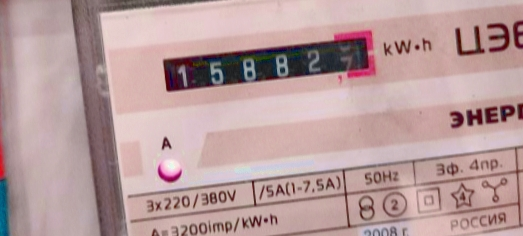1: (173, 62, 190, 91)
2: (303, 47, 322, 77)
5: (205, 59, 226, 88)
7: (336, 54, 354, 73)
8: (238, 56, 256, 85), (272, 52, 289, 81)
screen: (146, 22, 386, 107)
